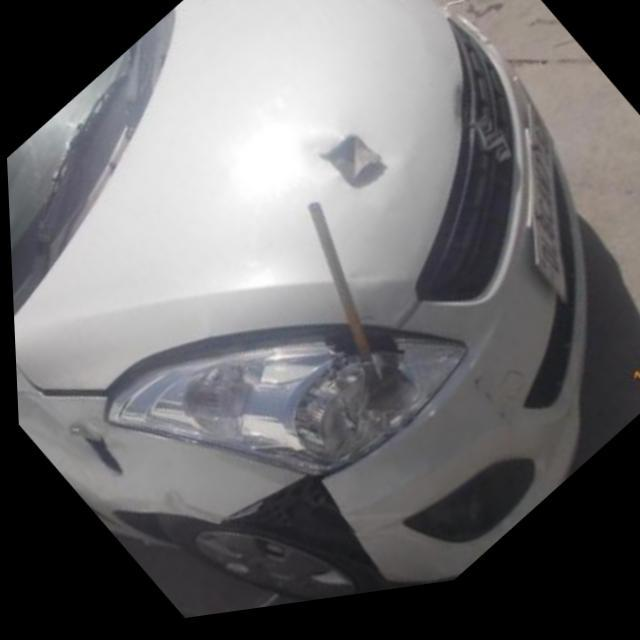crack: (311, 128, 394, 215)
dislocated part: (100, 335, 418, 421)
no part: (214, 486, 384, 596)
rub: (63, 422, 124, 480)
